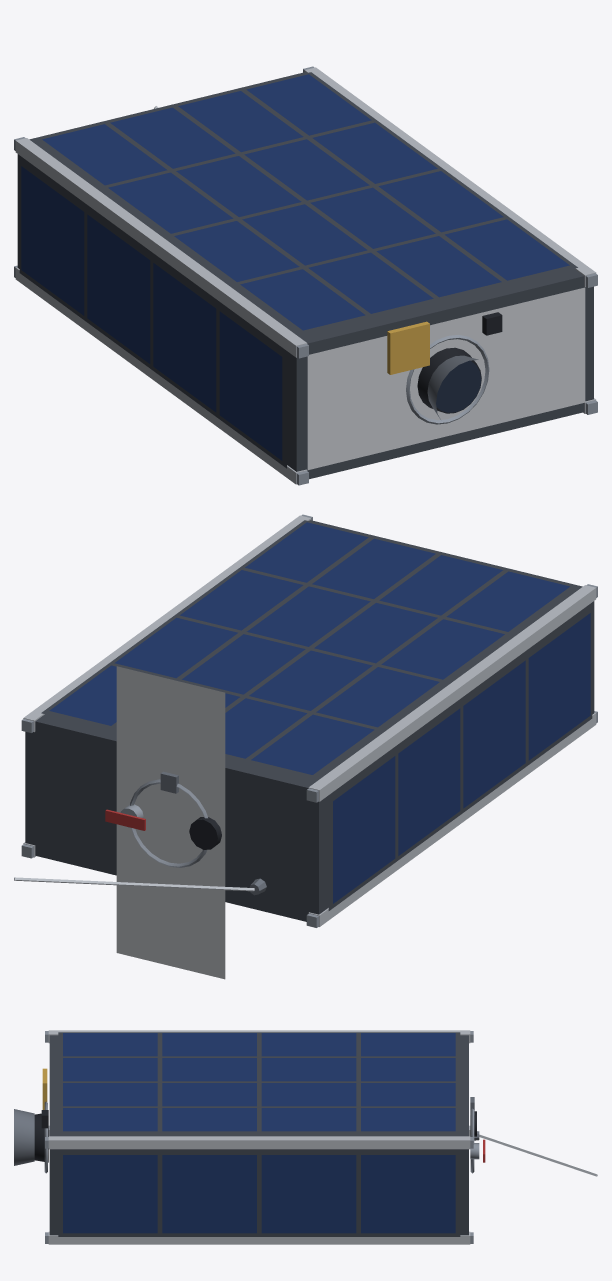
The model's file is cubesat-6u.glb.
3 renders of one model, top to bottom at view 1: azimuth 30°, elevation 25°; view 2: azimuth 150°, elevation 25°; view 3: azimuth 270°, elevation 25°, orthographic. The views are drawn at different scales.
Visible parts, largest first — view 1: solar-panel, body; view 2: body, solar-panel, foil; view 3: solar-panel, body, foil.
Part boxes in pixels (x1,y1,x2,y2): solar-panel: (21,74,569,460); body: (14,66,597,485); body: (21,514,597,979); solar-panel: (49,522,590,903); foil: (14,877,254,891); solar-panel: (63,1033,455,1233); body: (14,1030,485,1244); foil: (479,1134,597,1176).
Size of the model in its own units: 0.2323 by 0.2093 by 0.5069.
